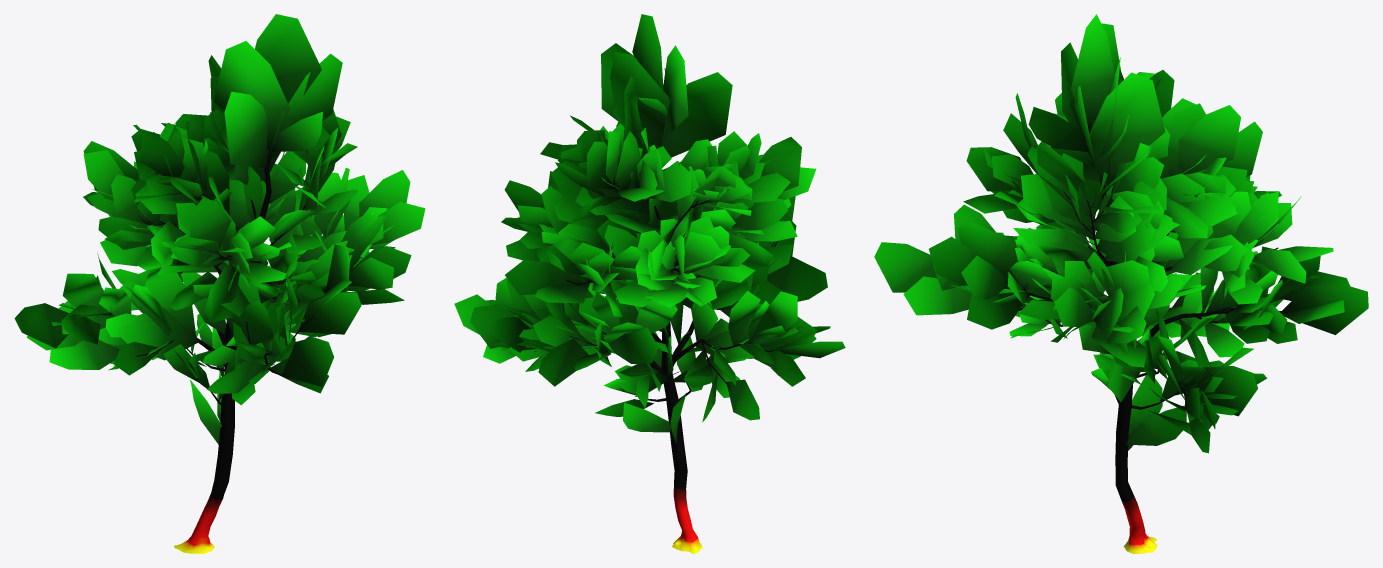
Rendered from Oak_Med_3_LOD_1.fbx.
3 renders of one model, left to right at view 1: azimuth 30°, elevation 25°; view 2: azimuth 150°, elevation 25°; view 3: azimuth 270°, elevation 25°, orthographic. The views are drawn at different scales.
Parts seen in each view (by area): view 1: Oak_Med_3_LOD_1; view 2: Oak_Med_3_LOD_1; view 3: Oak_Med_3_LOD_1.
Boxes of the visible parts, x1,y1,x2,y2 form: Oak_Med_3_LOD_1: (14, 14, 425, 553); Oak_Med_3_LOD_1: (454, 14, 845, 553); Oak_Med_3_LOD_1: (874, 14, 1368, 553).
Size of the model in its own units: 16.05 by 21.21 by 16.9.
